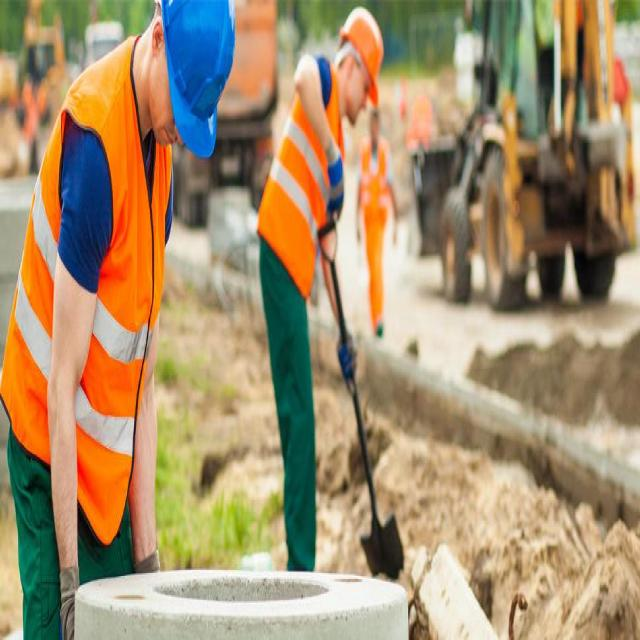Reflective-Jacket: (0, 48, 172, 496), (256, 57, 348, 286)
Safety-Helmet: (158, 0, 236, 161), (337, 1, 387, 100)
